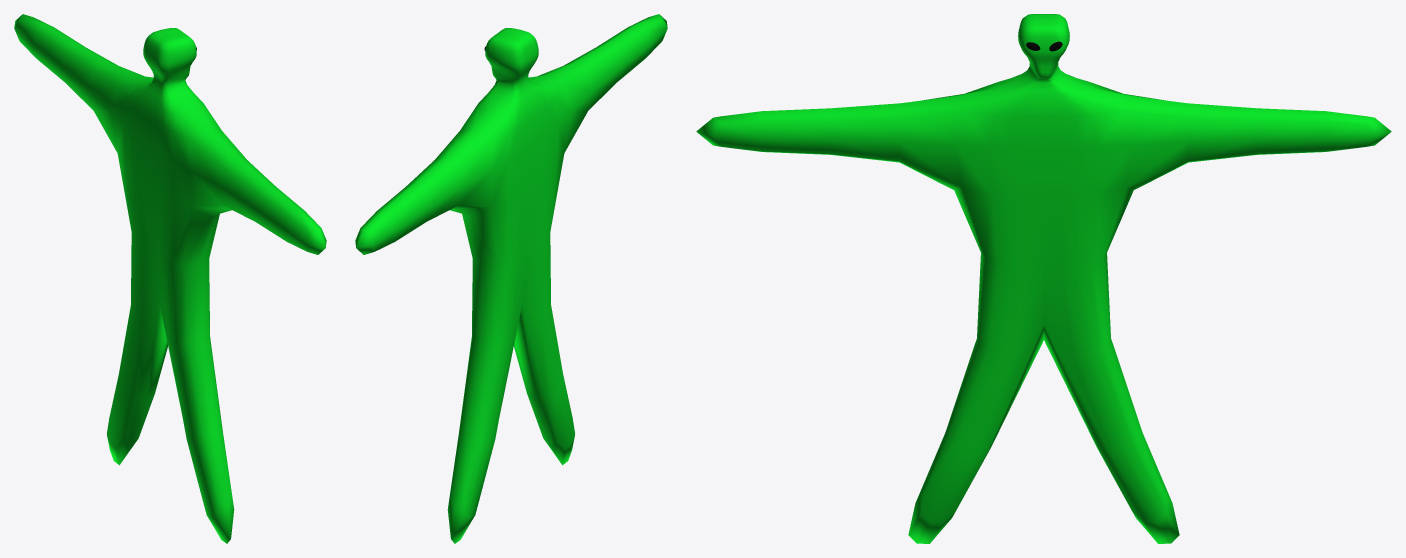
File: гони шаурму землянин.fbx
3 views of the same model, side by side, from view 1: azimuth 30°, elevation 25°; view 2: azimuth 150°, elevation 25°; view 3: azimuth 270°, elevation 25° (orthographic). The views are drawn at different scales.
Visible parts, largest first — view 1: Cube; view 2: Cube; view 3: Cube.
Boxes of the visible parts, x1,y1,x2,y2 form: Cube: [14, 14, 326, 543]; Cube: [355, 14, 667, 543]; Cube: [696, 14, 1391, 543].
Bounding box in the file's own units: 141 × 1390 × 1670.
